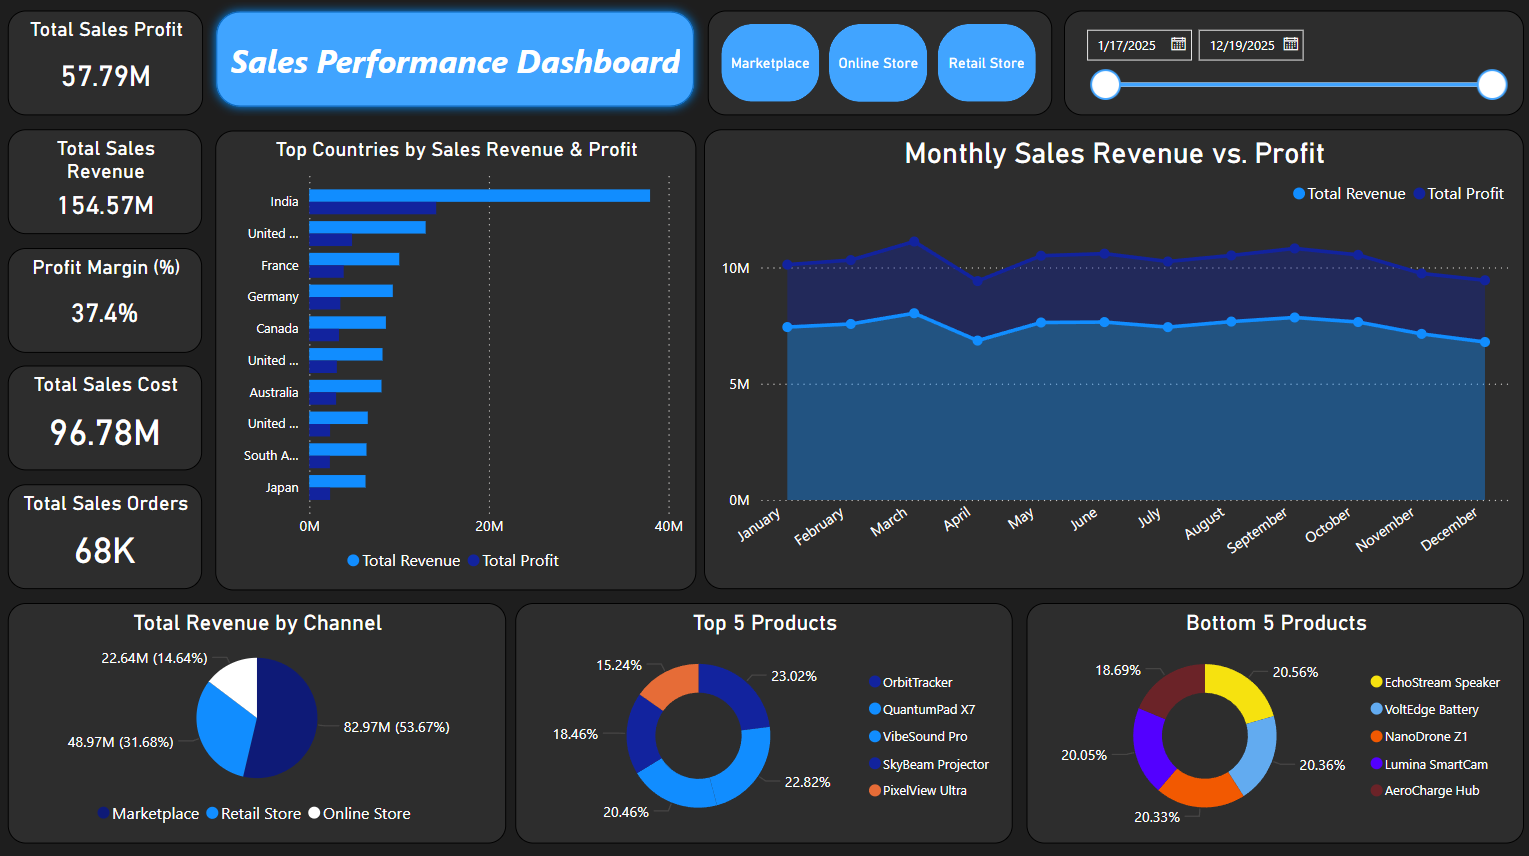

What the dashboard file says about the page in this screenshot:
{"tool":"powerbi","page":{"name":"Page 1","canvas":[1280,720],"ordinal":0},"visuals":[{"type":"card","title":"Total Sales Revenue","fields":{"Values":["Base Measures.Total Revenue"]},"box":[5.8,229.6,244.2,115],"z":0},{"type":"card","title":"Total Sales Orders","fields":{"Values":["Base Measures.Total Sale Orders"]},"box":[5.8,597.7,244.2,115.1],"z":1000},{"type":"card","title":"Total Sales Cost","fields":{"Values":["Base Measures.Total Cost"]},"box":[5.8,352.3,244.2,115.1],"z":2000},{"type":"donutChart","title":"Top 5 Products","fields":{"Category":["Products.Products Name"],"Y":["Base Measures.Total Revenue"]},"box":[861.6,310.5,414,197.7],"z":3000},{"type":"donutChart","title":"Bottom 5 Products","fields":{"Category":["Products.Products Name"],"Y":["Base Measures.Total Revenue"]},"box":[861.6,515.1,414,197.7],"z":4000},{"type":"pieChart","title":"Total Revenue by Channel","fields":{"Category":["Sales Orders.Channel"],"Y":["Base Measures.Total Revenue"]},"box":[861.6,107,414,197.7],"z":5000},{"type":"stackedAreaChart","title":"Monthly Sales Revenue vs. Profit","fields":{"Y":["Base Measures.Total Revenue","Base Measures.Total Profit"],"Category":["Sales Orders.OrderDate.Variation.Date Hierarchy.Month"]},"box":[255.8,107.2,600,300],"z":6000},{"type":"advancedSlicerVisual","fields":{"Values":["Sales Orders.Channel"]},"box":[415.1,5,440.7,96.5],"z":7000},{"type":"shape","title":"BenTech ","box":[1,7,414,95.3],"z":8000},{"type":"clusteredBarChart","title":"Top Countries by Sales Revenue & Profit","fields":{"Category":["Regions.Country"],"Y":["Base Measures.Total Revenue","Base Measures.Total Profit"]},"box":[255.8,412.8,601.2,300],"z":9000},{"type":"card","title":"Total Sales Profit","fields":{"Values":["Base Measures.Total Profit"]},"box":[5.8,107,244.2,115],"z":10000},{"type":"slicer","fields":{"Values":["Sales Orders.OrderDate"]},"box":[862,5,414,97.7],"z":11000},{"type":"card","title":"Profit Margin (%)","fields":{"Values":["Base Measures.Profit Margin (%)"]},"box":[1.2,475,244.2,115],"z":12000}]}

Visuals, with their boxes in screenshot pixels (x1, y1, x2, y2), scaled from the page's 1280x720 canvas onto the 1529x856 screenshot:
"Total Sales Revenue" card: [left=7, top=273, right=299, bottom=410]
"Total Sales Orders" card: [left=7, top=711, right=299, bottom=847]
"Total Sales Cost" card: [left=7, top=419, right=299, bottom=556]
"Top 5 Products" donutChart: [left=1029, top=369, right=1524, bottom=604]
"Bottom 5 Products" donutChart: [left=1029, top=612, right=1524, bottom=847]
"Total Revenue by Channel" pieChart: [left=1029, top=127, right=1524, bottom=362]
"Monthly Sales Revenue vs. Profit" stackedAreaChart: [left=306, top=127, right=1022, bottom=484]
advancedSlicerVisual - Sales Orders.Channel: [left=496, top=6, right=1022, bottom=121]
"BenTech " shape: [left=1, top=8, right=496, bottom=122]
"Top Countries by Sales Revenue & Profit" clusteredBarChart: [left=306, top=491, right=1024, bottom=847]
"Total Sales Profit" card: [left=7, top=127, right=299, bottom=264]
slicer - Sales Orders.OrderDate: [left=1030, top=6, right=1524, bottom=122]
"Profit Margin (%)" card: [left=1, top=565, right=293, bottom=701]
